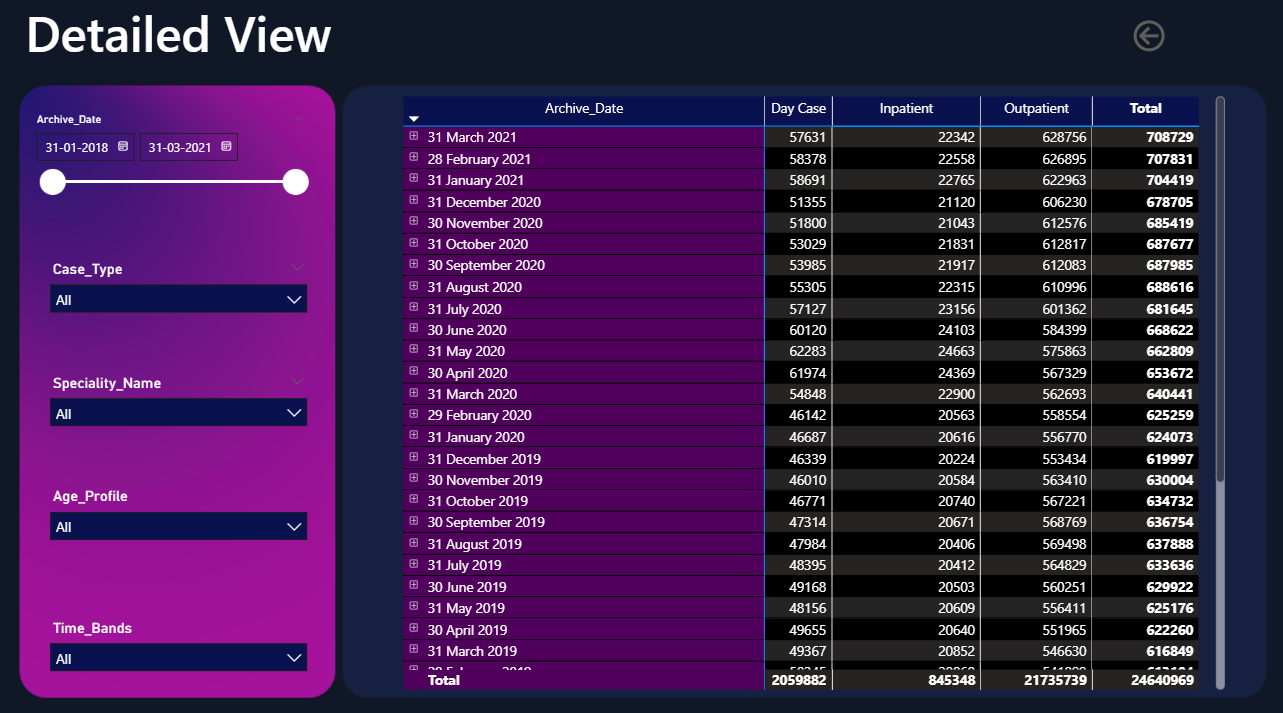

The page's visual inventory and layout, read from the dashboard file:
{"tool":"powerbi","page":{"name":"Detail","canvas":[1280,720],"ordinal":1},"visuals":[{"type":"slicer","fields":{"Values":["All_Data.Archive_Date"]},"box":[32,112,288,112],"z":0},{"type":"slicer","fields":{"Values":["All_Data.Case_Type"]},"box":[48,256,272,80],"z":1000},{"type":"slicer","fields":{"Values":["All_Data.Speciality_Name"]},"box":[48,368,272,80],"z":2000},{"type":"textbox","box":[0,0,368,80],"z":3000},{"type":"slicer","fields":{"Values":["All_Data.Age_Profile"]},"box":[48,480,272,96],"z":4000},{"type":"slicer","fields":{"Values":["All_Data.Time_Bands"]},"box":[48,608,272,80],"z":5000},{"type":"pivotTable","fields":{"Rows":["All_Data.Archive_Date","All_Data.Specialty_Name","All_Data.Age_Profile","All_Data.Time_Bands"],"Columns":["All_Data.Case_Type"],"Values":["Sum(All_Data.Total)"]},"box":[400,96,816,592],"z":6000},{"type":"actionButton","box":[1116.6,20.9,99.4,40.5],"z":7000}]}

Visuals, with their boxes in screenshot pixels (x1, y1, x2, y2), scaled from the page's 1280x720 canvas onto the 1283x713 screenshot:
slicer - All_Data.Archive_Date: 32:111:321:222
slicer - All_Data.Case_Type: 48:254:321:333
slicer - All_Data.Speciality_Name: 48:364:321:444
textbox: 0:0:369:79
slicer - All_Data.Age_Profile: 48:475:321:570
slicer - All_Data.Time_Bands: 48:602:321:681
pivotTable - All_Data.Archive_Date x All_Data.Specialty_Name: 401:95:1219:681
actionButton: 1119:21:1219:61
